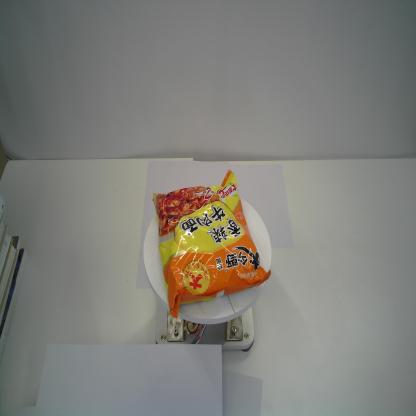Instant Noodles: (152, 168, 271, 318)
